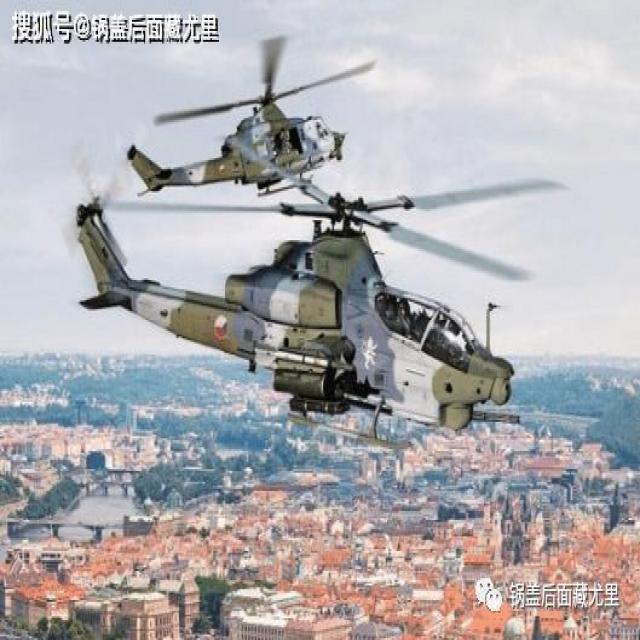MIL_HELO: (59, 131, 564, 476), (120, 27, 387, 189)
